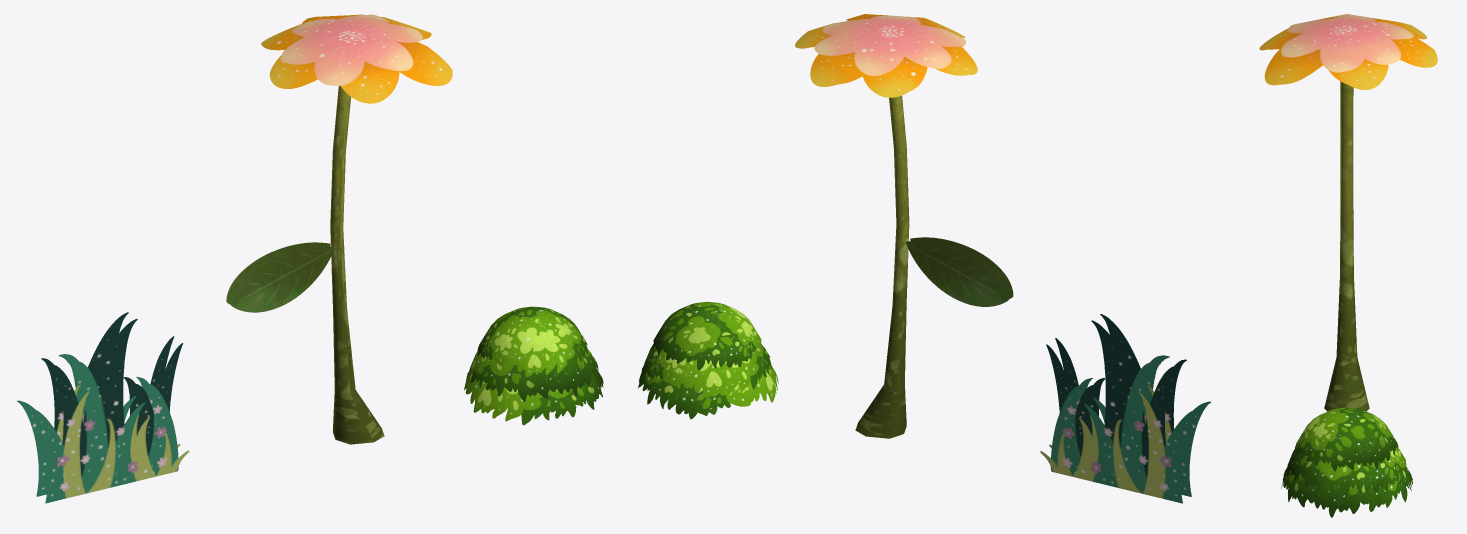
Rendered from bushes.fbx.
3 views of the same model, side by side, from view 1: azimuth 30°, elevation 25°; view 2: azimuth 150°, elevation 25°; view 3: azimuth 270°, elevation 25° (orthographic). The views are drawn at different scales.
Parts seen in each view (by area): view 1: Flower, grass, bush; view 2: Flower, grass, bush; view 3: Flower, bush.
Boxes of the visible parts, x1,y1,x2,y2 form: Flower: [226, 14, 452, 444]; grass: [17, 312, 189, 503]; bush: [464, 306, 603, 425]; Flower: [795, 14, 1013, 438]; grass: [1040, 314, 1210, 503]; bush: [637, 301, 778, 419]; Flower: [1259, 14, 1437, 411]; bush: [1281, 407, 1412, 517].
Bounding box in the file's own units: 231 × 157 × 78.91.
